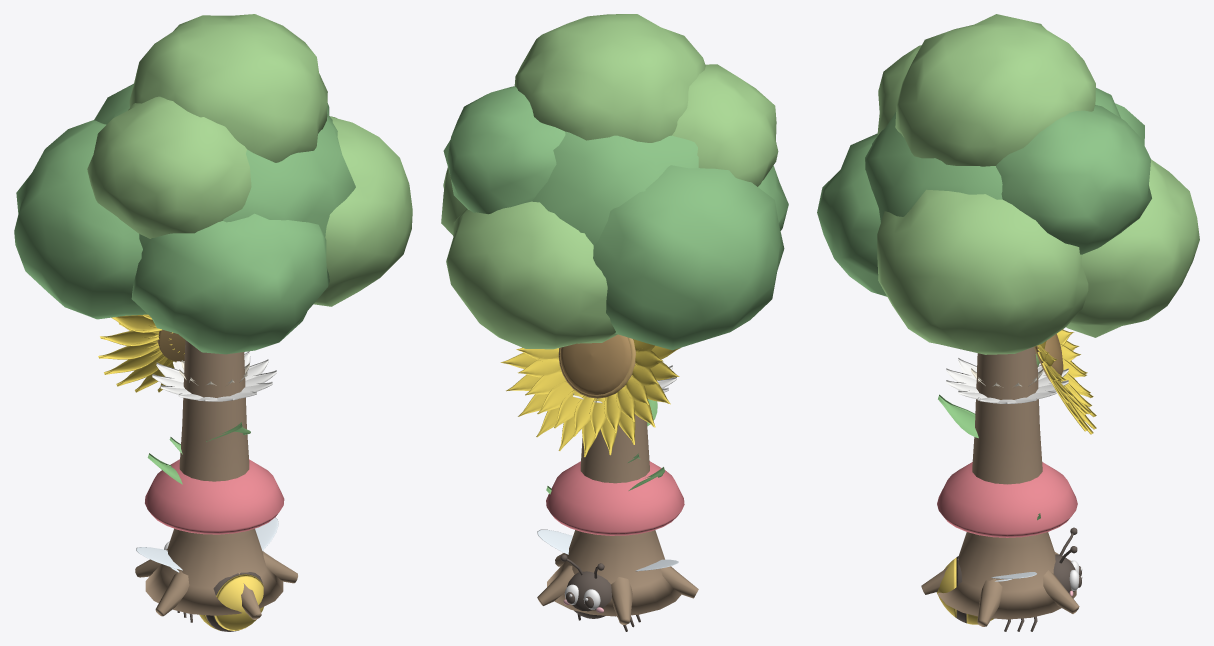
Rendered from PacoteAbelhas.glb.
3 renders of one model, left to right at view 1: azimuth 30°, elevation 25°; view 2: azimuth 150°, elevation 25°; view 3: azimuth 270°, elevation 25°, orthographic.
Visible parts, largest first — view 1: Copa_3, CopaClara_3, CopaClara_4, Copa_2, Tronco_1, CopaClara_1, Copa_1, Chapeu_1, Corpo_3, Tronco_4, MioloBorda_1, Petala_12 (+3 smaller); view 2: Copa_2, CopaClara_2, CopaClara_3, Copa_4, Copa_1, Tronco_1, CopaClara_4, Chapeu_1, Miolo_1, Cabeca_1, Tronco_5, CopaClara_1 (+10 smaller); view 3: CopaClara_1, CopaClara_3, Copa_4, Tronco_1, CopaClara_2, Chapeu_1, Copa_1, Copa_3, CopaClara_4, Tronco_2, Tronco_6, Folha_3 (+1 smaller).
Boxes of the visible parts, box(x1,y1,x2,y2) form: Copa_3: box(131, 213, 329, 354); CopaClara_3: box(129, 14, 327, 162); CopaClara_4: box(87, 96, 251, 238); Copa_2: box(14, 120, 147, 319); Tronco_1: box(145, 340, 283, 615); CopaClara_1: box(314, 116, 412, 306); Copa_1: box(94, 83, 355, 248); Chapeu_1: box(145, 459, 284, 534); Corpo_3: box(214, 574, 263, 630); Tronco_4: box(155, 570, 189, 616); MioloBorda_1: box(157, 329, 185, 361); Petala_12: box(100, 330, 159, 346); Copa_2: box(593, 165, 784, 350); CopaClara_2: box(446, 201, 617, 349); CopaClara_3: box(514, 14, 705, 142); Copa_4: box(443, 86, 565, 214); Copa_1: box(531, 131, 698, 245); Tronco_1: box(547, 414, 681, 616); CopaClara_4: box(672, 64, 778, 186); Chapeu_1: box(546, 461, 684, 535); Miolo_1: box(560, 334, 631, 394); Cabeca_1: box(567, 571, 611, 618); Tronco_5: box(611, 577, 632, 624); CopaClara_1: box(441, 167, 466, 235); CopaClara_1: box(877, 189, 1088, 354); CopaClara_3: box(895, 14, 1095, 166); Copa_4: box(996, 105, 1151, 254); Tronco_1: box(938, 347, 1076, 619); CopaClara_2: box(1066, 159, 1199, 337); Chapeu_1: box(937, 462, 1077, 537); Copa_1: box(865, 88, 1120, 254); Copa_3: box(817, 133, 887, 296); CopaClara_4: box(877, 45, 921, 134); Tronco_2: box(977, 578, 1002, 626); Tronco_6: box(1043, 570, 1079, 613); Folha_3: box(938, 394, 978, 438).
Bounding box in the file's own units: 17.91 × 29.94 × 17.39.
